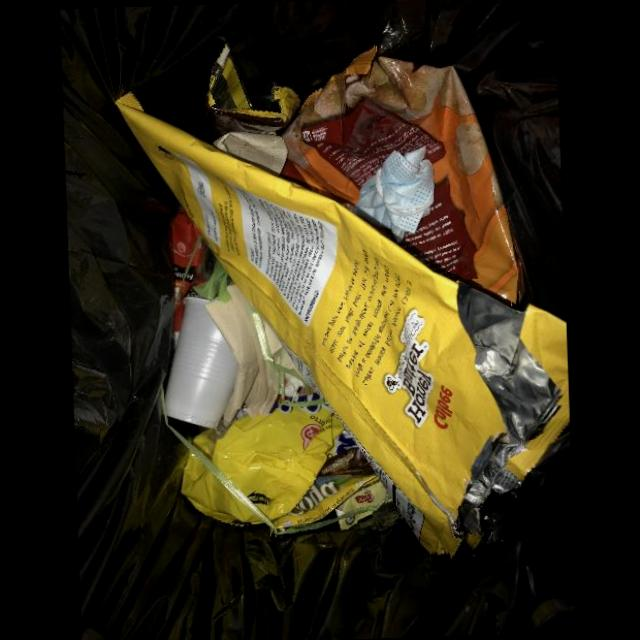bao_bi_thuc_pham: (114, 90, 569, 554), (275, 44, 524, 304), (178, 399, 344, 528), (270, 446, 380, 532), (205, 42, 300, 137), (171, 208, 207, 333)
giay: (204, 283, 280, 426), (213, 131, 288, 176)
hop_nhua: (164, 295, 238, 428)
khau_trang: (355, 145, 435, 236)
vo_hop_sua: (335, 480, 390, 529)
